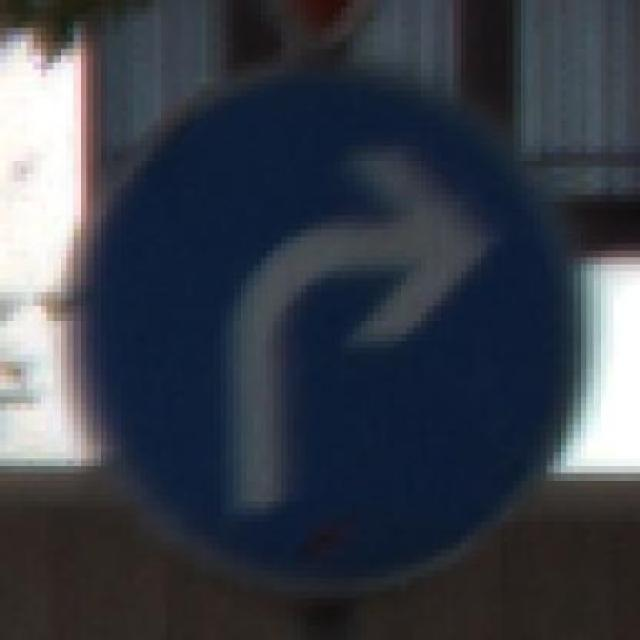Turn right ahead: (60, 49, 600, 606)
